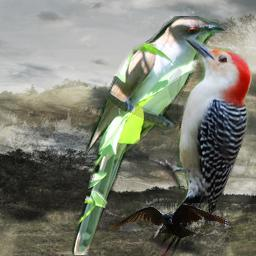Crow: (108, 203, 229, 245)
Cuckoo: (72, 16, 228, 255)
Woodpecker: (149, 36, 252, 256)
